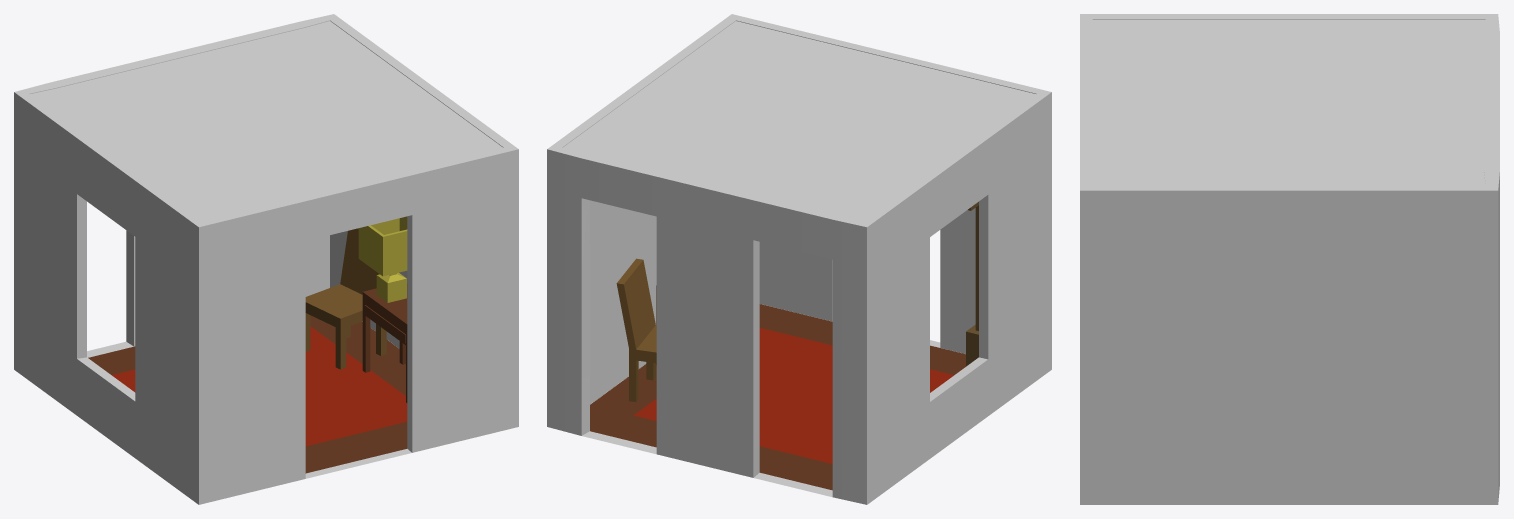
Rendered from S_Hall_Furnished.glb.
The picture shows the model from 3 angles, left to right: view 1: azimuth 30°, elevation 25°; view 2: azimuth 150°, elevation 25°; view 3: azimuth 270°, elevation 25°; orthographic projection. The views are drawn at different scales.
Visible parts, largest first — view 1: S_Hall, S_Carpet, S_Chair, S_Lamp, S_Table; view 2: S_Hall, S_Carpet, S_Chair, S_CoatStand; view 3: S_Hall.
Part boxes in pixels (left/top/right/bottom): S_Hall: left=14, top=14, right=518, bottom=504; S_Carpet: left=112, top=326, right=407, bottom=446; S_Chair: left=305, top=228, right=386, bottom=369; S_Lamp: left=358, top=216, right=407, bottom=302; S_Table: left=362, top=284, right=407, bottom=402; S_Hall: left=547, top=14, right=1051, bottom=504; S_Carpet: left=633, top=328, right=953, bottom=463; S_Chair: left=616, top=258, right=656, bottom=401; S_CoatStand: left=966, top=201, right=978, bottom=366; S_Hall: left=1080, top=14, right=1499, bottom=504.
Bounding box in the file's own units: 3.19 × 2.65 × 3.2.
